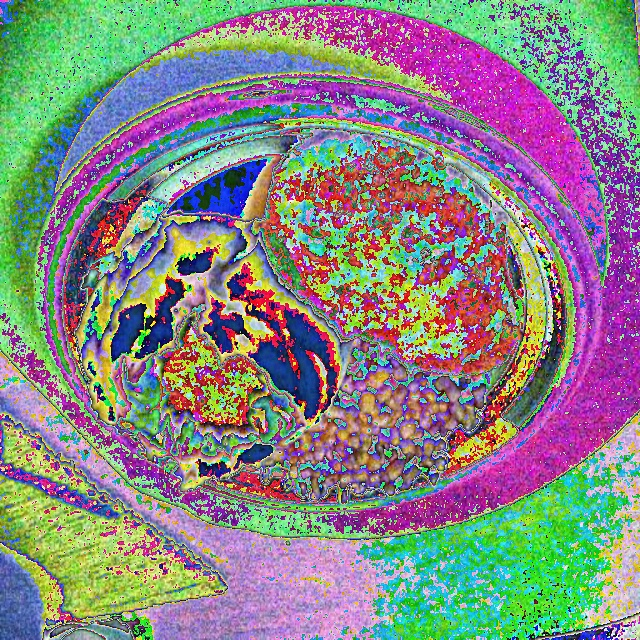background: (75, 129, 522, 504)
